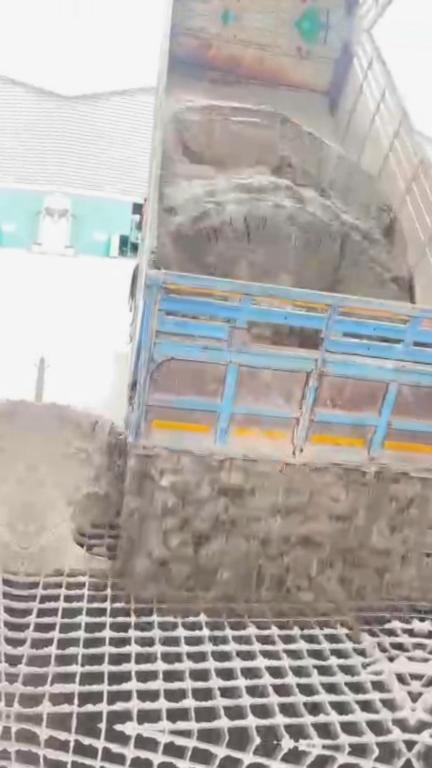sand: (23, 403, 432, 611), (150, 72, 410, 300)
